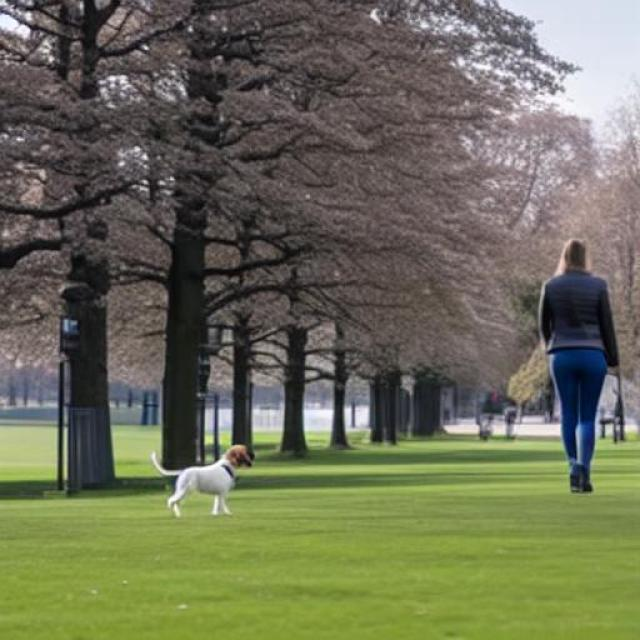Unleashed_Dog: (151, 400, 594, 515)
